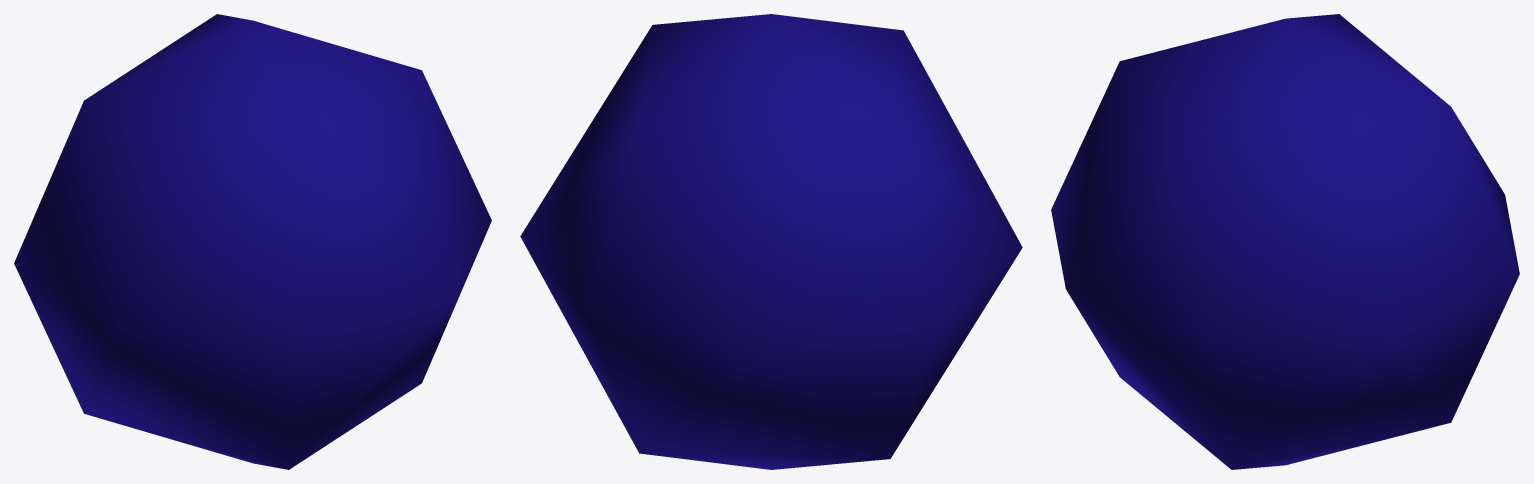
Rendered from CHP10_CINE02_ARKENSTONEANIM.fbx.
3 views of the same model, side by side, from view 1: azimuth 30°, elevation 25°; view 2: azimuth 150°, elevation 25°; view 3: azimuth 270°, elevation 25° (orthographic). The views are drawn at different scales.
Parts seen in each view (by area): view 1: CHP10_CINE02_ARKENSTONEANIM; view 2: CHP10_CINE02_ARKENSTONEANIM; view 3: CHP10_CINE02_ARKENSTONEANIM.
Part boxes in pixels (x1,y1,x2,y2): CHP10_CINE02_ARKENSTONEANIM: [14, 14, 491, 469]; CHP10_CINE02_ARKENSTONEANIM: [520, 14, 1022, 469]; CHP10_CINE02_ARKENSTONEANIM: [1051, 14, 1519, 469].
Size of the model in its own units: 3524 by 3705 by 3524.
Materials: 1 (1 with a texture image).
